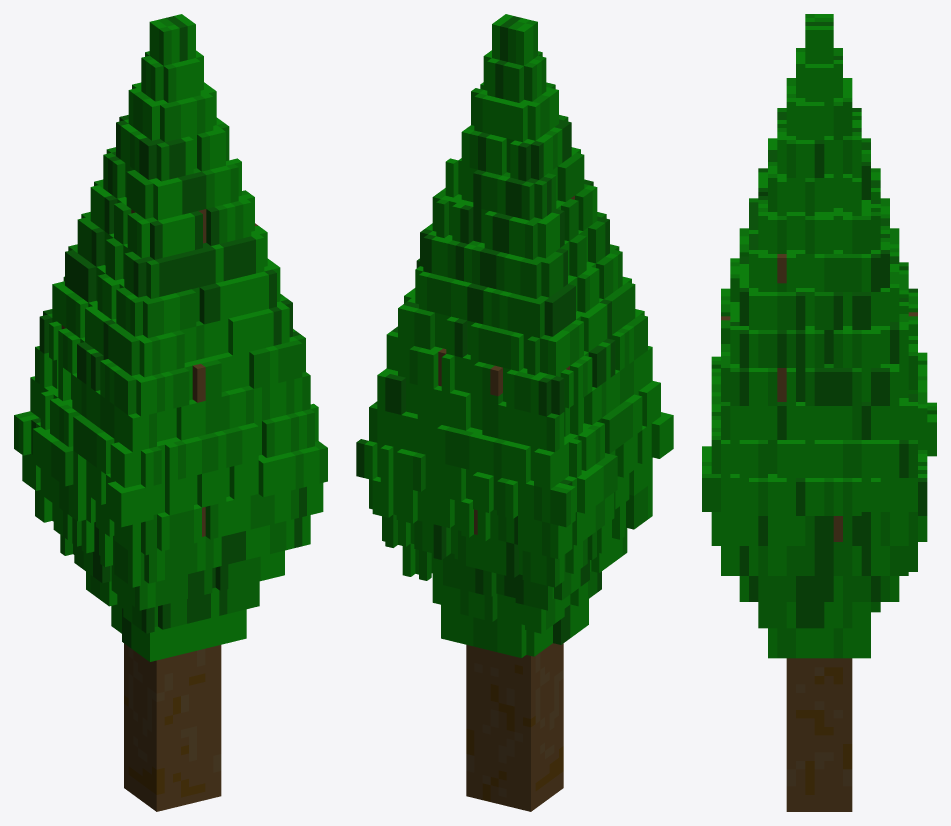
File: Tree1.obj
The picture shows the model from 3 angles, left to right: view 1: azimuth 30°, elevation 25°; view 2: azimuth 150°, elevation 25°; view 3: azimuth 270°, elevation 25°; orthographic projection.
Bounding box in the file's own units: 2.6 × 9.1 × 2.5.
1 material, 1 textured.
